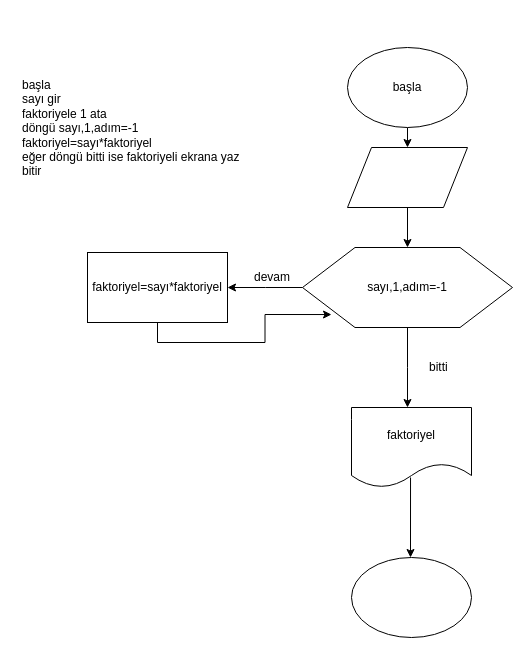
This 530x655 diagram has some shape labels left out. Here are the shapes that lost their labels. From the top down, the centre of each, then its label:
At point 407,177: "sayı faktoriyel=1".
At point 411,597: "bitri".
